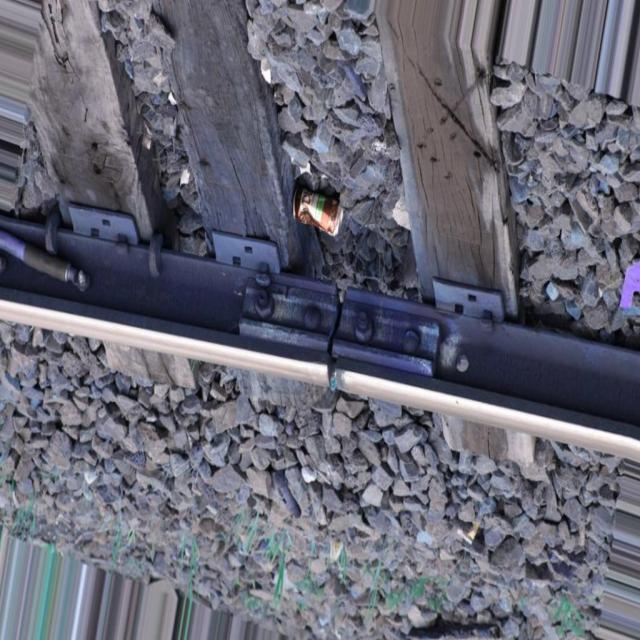Defective Joint: (238, 274, 459, 377)
Missing Dogscrew: (454, 304, 463, 313), (233, 256, 240, 264)
